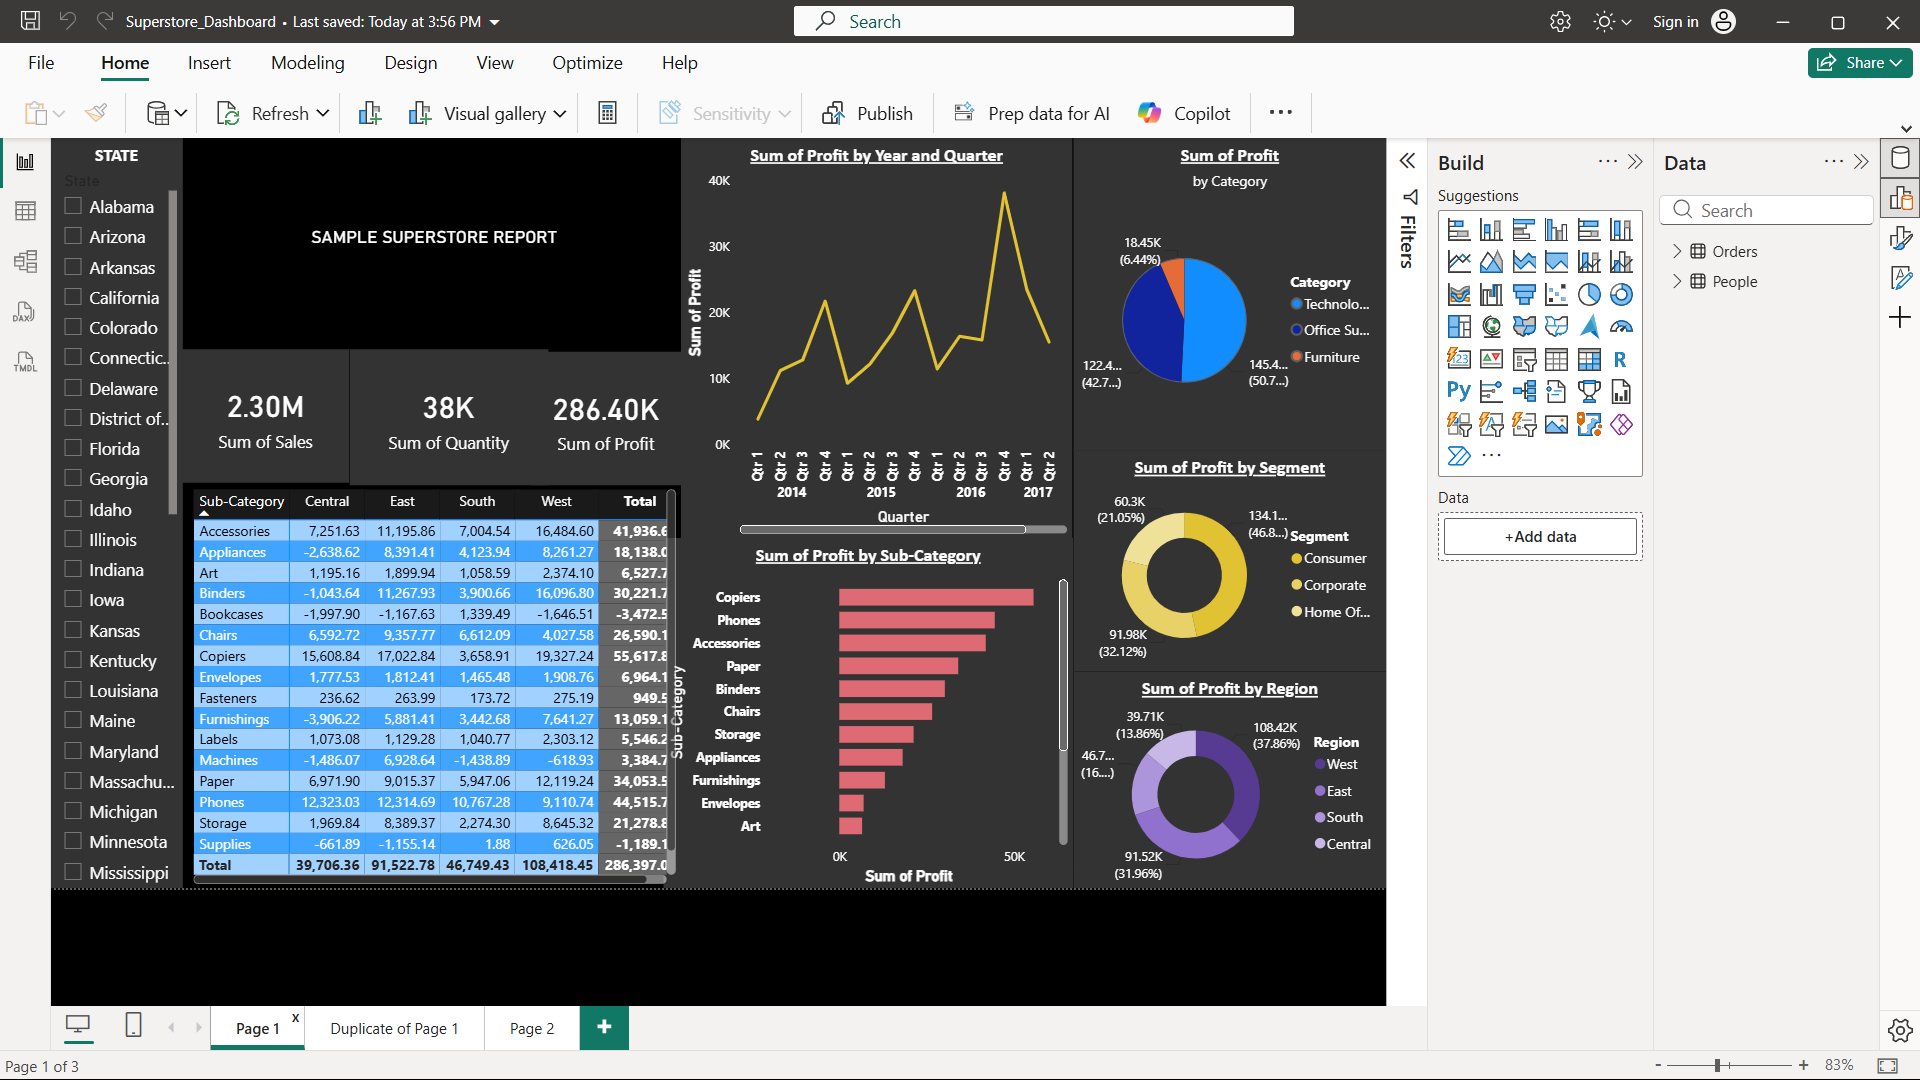

The dashboard page shown, as its layout file describes it:
{"tool":"powerbi","page":{"name":"Page 1","canvas":[1280,720],"ordinal":0},"visuals":[{"type":"lineChart","fields":{"Category":["Orders.Order Date.Variation.Date Hierarchy.Year","Orders.Order Date.Variation.Date Hierarchy.Quarter"],"Y":["Sum(Orders.Profit)"]},"box":[604.3,0,375.4,384.1],"z":0},{"type":"barChart","fields":{"Category":["Orders.Sub-Category"],"Y":["Sum(Orders.Profit)"]},"box":[586.8,383.8,392.6,336.8],"z":1000},{"type":"pieChart","fields":{"Category":["Orders.Category"],"Y":["Sum(Orders.Profit)"]},"box":[980,0,300,300],"z":2000},{"type":"donutChart","fields":{"Category":["Orders.Segment"],"Y":["Sum(Orders.Profit)"]},"box":[980,300,300,212],"z":3000},{"type":"donutChart","fields":{"Category":["Orders.Region"],"Y":["Sum(Orders.Profit)"]},"box":[980,512,300,208],"z":4000},{"type":"card","fields":{"Values":["Sum(Orders.Sales)"]},"box":[126,202,160,128],"z":5000},{"type":"pivotTable","fields":{"Columns":["Orders.Region"],"Rows":["Orders.Sub-Category"],"Values":["Sum(Orders.Profit)"]},"box":[132.4,332.4,472.1,388.2],"z":6000},{"type":"card","fields":{"Values":["Sum(Orders.Quantity)"]},"box":[286,202,190,130],"z":7000},{"type":"slicer","title":"STATE","fields":{"Values":["Orders.State"]},"box":[0,0,126,720],"z":8000},{"type":"card","fields":{"Values":["Sum(Orders.Profit)"]},"box":[460.3,204.4,144.1,127.9],"z":9000},{"type":"textbox","title":"SAMPLE SUPERSTORE REPORT","box":[244.9,85.5,342,21.7],"z":10000}]}

Visuals, with their boxes on the page's 1280x720 design canvas (x1, y1, x2, y2). These are canvas units, not pixel positions in the 1920x1080 screenshot, which may show the page scaled, cropped or inside an application window:
lineChart - Orders.Order Date.Variation.Date Hierarchy.Year x Orders.Order Date.Variation.Date Hierarchy.Quarter: <box>604,0,980,384</box>
barChart - Orders.Sub-Category x Sum(Orders.Profit): <box>587,384,979,721</box>
pieChart - Orders.Category x Sum(Orders.Profit): <box>980,0,1280,300</box>
donutChart - Orders.Segment x Sum(Orders.Profit): <box>980,300,1280,512</box>
donutChart - Orders.Region x Sum(Orders.Profit): <box>980,512,1280,720</box>
card - Sum(Orders.Sales): <box>126,202,286,330</box>
pivotTable - Orders.Region x Orders.Sub-Category: <box>132,332,604,721</box>
card - Sum(Orders.Quantity): <box>286,202,476,332</box>
"STATE" slicer: <box>0,0,126,720</box>
card - Sum(Orders.Profit): <box>460,204,604,332</box>
"SAMPLE SUPERSTORE REPORT" textbox: <box>245,86,587,107</box>
